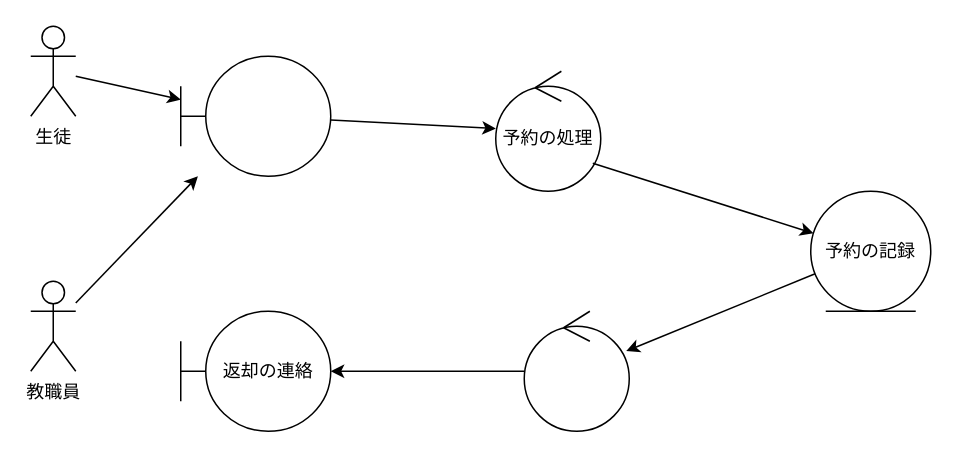
This 957x458 diagram has some shape labels left out. Here are the shapes that lost their labels. From the top down, the box of each, then its label:
(179, 55, 331, 176): 図書の予約
(523, 310, 629, 431): 図書の返却
